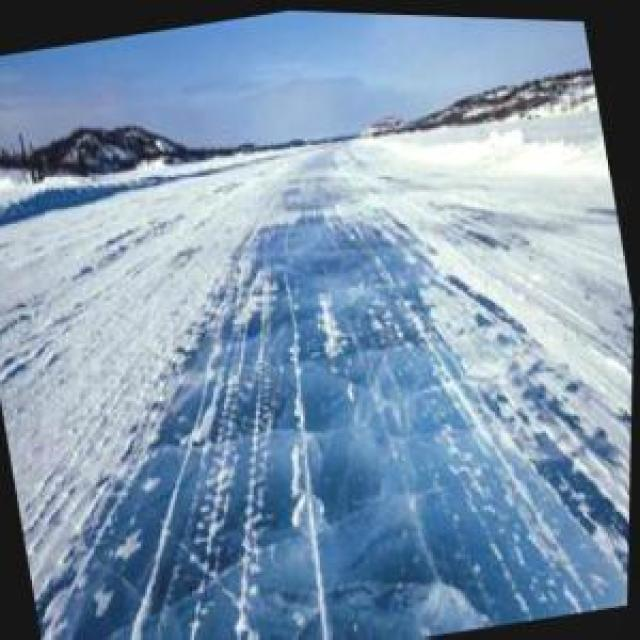ice-road: (45, 179, 627, 638)
